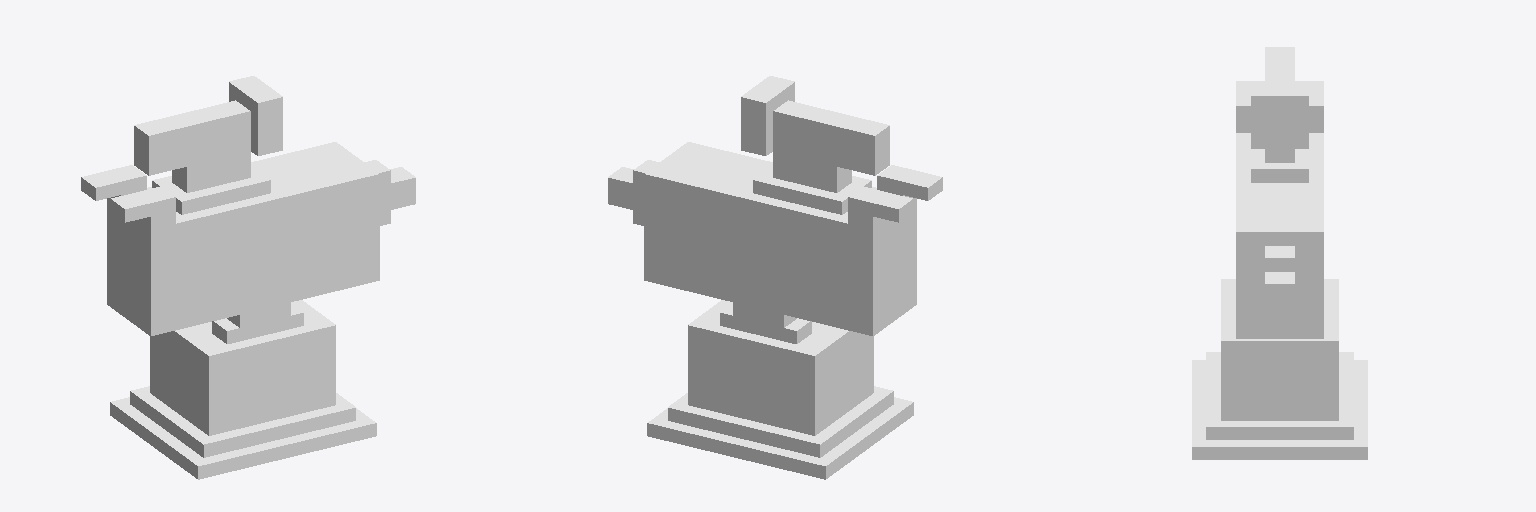
Rendered from inator.obj.
3 views of the same model, side by side, from view 1: azimuth 30°, elevation 25°; view 2: azimuth 150°, elevation 25°; view 3: azimuth 270°, elevation 25° (orthographic).
Parts seen in each view (by area): view 1: inator; view 2: inator; view 3: inator.
Part boxes in pixels (x1,y1,x2,y2): inator: (81, 76, 415, 479); inator: (608, 76, 942, 479); inator: (1192, 47, 1367, 459).
Bounding box in the file's own units: 11.1 × 11.56 × 5.55.